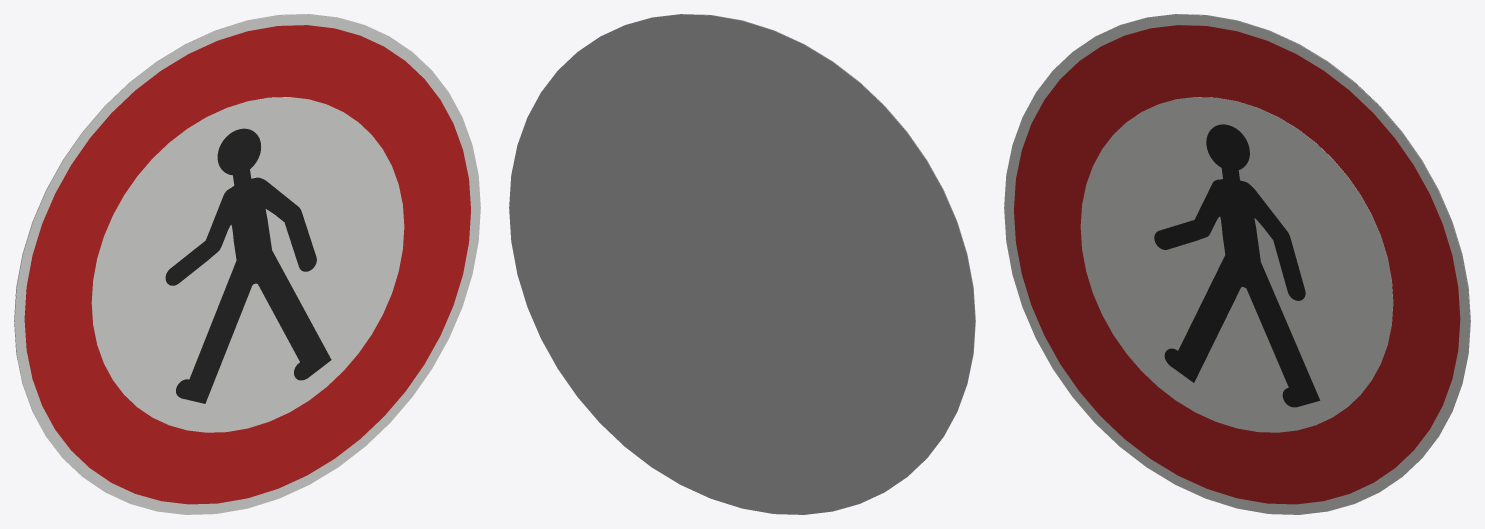
The picture shows the model from 3 angles, left to right: view 1: azimuth 30°, elevation 25°; view 2: azimuth 150°, elevation 25°; view 3: azimuth 330°, elevation 25°; orthographic projection.
Visible parts, largest first — view 1: B9a_p01, B9a_p02, B9a_p03, B9a_p00, B9a_dos; view 2: B9a_dos, B9a_p00; view 3: B9a_p01, B9a_p02, B9a_p03, B9a_p00, B9a_dos.
Boxes of the visible parts, x1,y1,x2,y2 form: B9a_p01: [24, 25, 470, 504]; B9a_p02: [91, 97, 404, 432]; B9a_p03: [165, 128, 331, 403]; B9a_p00: [14, 14, 480, 514]; B9a_dos: [14, 14, 385, 473]; B9a_dos: [509, 14, 975, 514]; B9a_p00: [604, 14, 975, 473]; B9a_p01: [1014, 25, 1460, 504]; B9a_p02: [1080, 97, 1393, 432]; B9a_p03: [1154, 124, 1320, 407]; B9a_p00: [1004, 14, 1470, 514]; B9a_dos: [1099, 14, 1470, 473].
Bounding box in the file's own units: 0.85 × 0.8498 × 0.0031.
